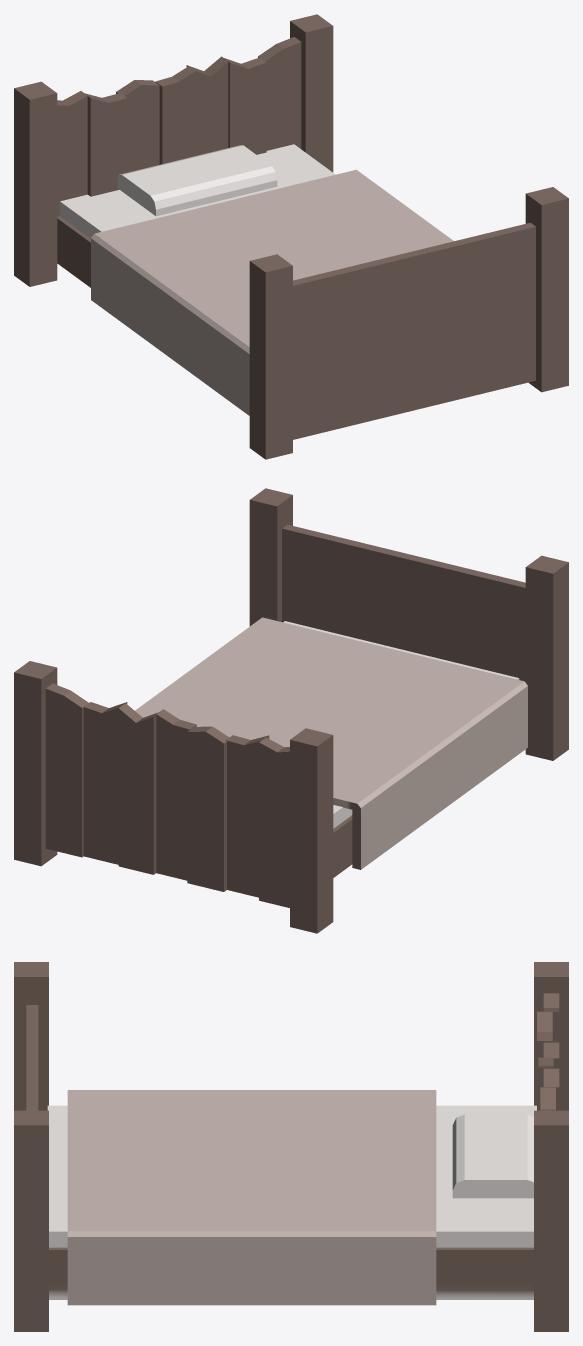
The model's file is Bed.fbx.
3 renders of one model, top to bottom at view 1: azimuth 30°, elevation 25°; view 2: azimuth 150°, elevation 25°; view 3: azimuth 270°, elevation 25°, orthographic. The views are drawn at different scales.
Parts seen in each view (by area): view 1: Bed_Geo; view 2: Bed_Geo; view 3: Bed_Geo.
Boxes of the visible parts, left/top/right/bottom form: Bed_Geo: left=14, top=14, right=568, bottom=459; Bed_Geo: left=14, top=488, right=568, bottom=933; Bed_Geo: left=14, top=962, right=568, bottom=1331.
Size of the model in its own units: 62.18 by 36.68 by 89.33.
